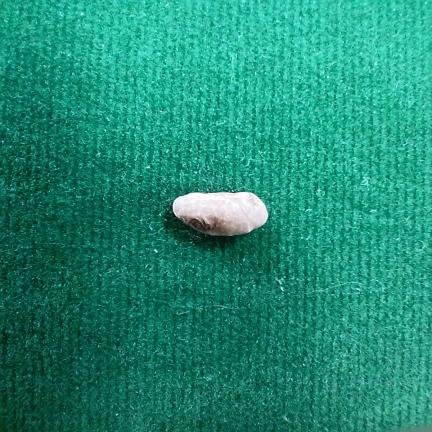shell: (173, 192, 267, 236)
